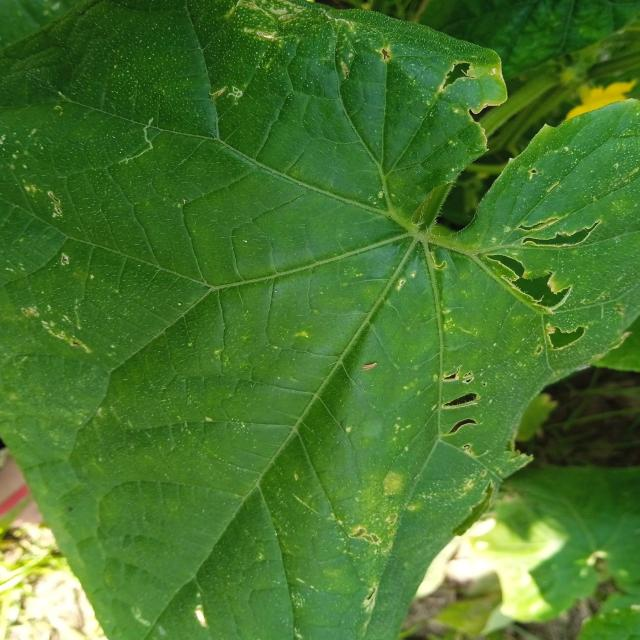cucumber_anthracnose: (163, 39, 621, 628)
